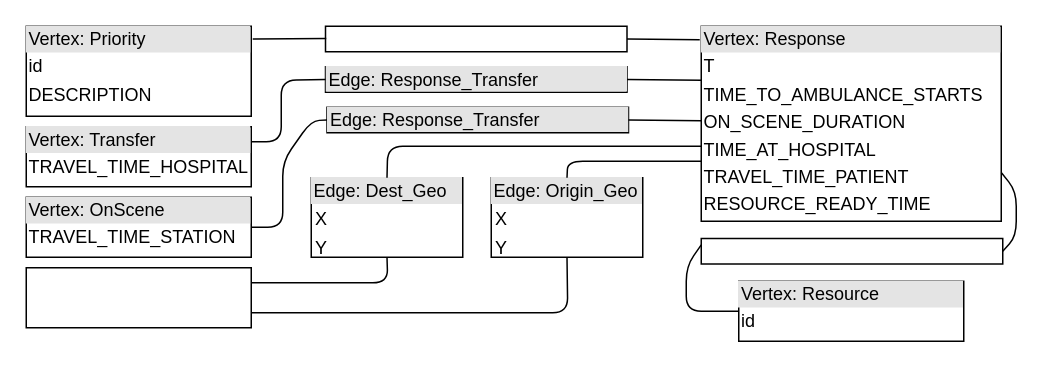
The diagram is 1044 pixels wide and 368 high, and some of its shapes have lost their labels. Each missing label, with the centre of its shape:
"Edge: Response_Priority" goes at point 475,38.
"Edge: Response_Resource" goes at point 851,250.
"Vertex: Geo_Grid id" goes at point 138,297.
